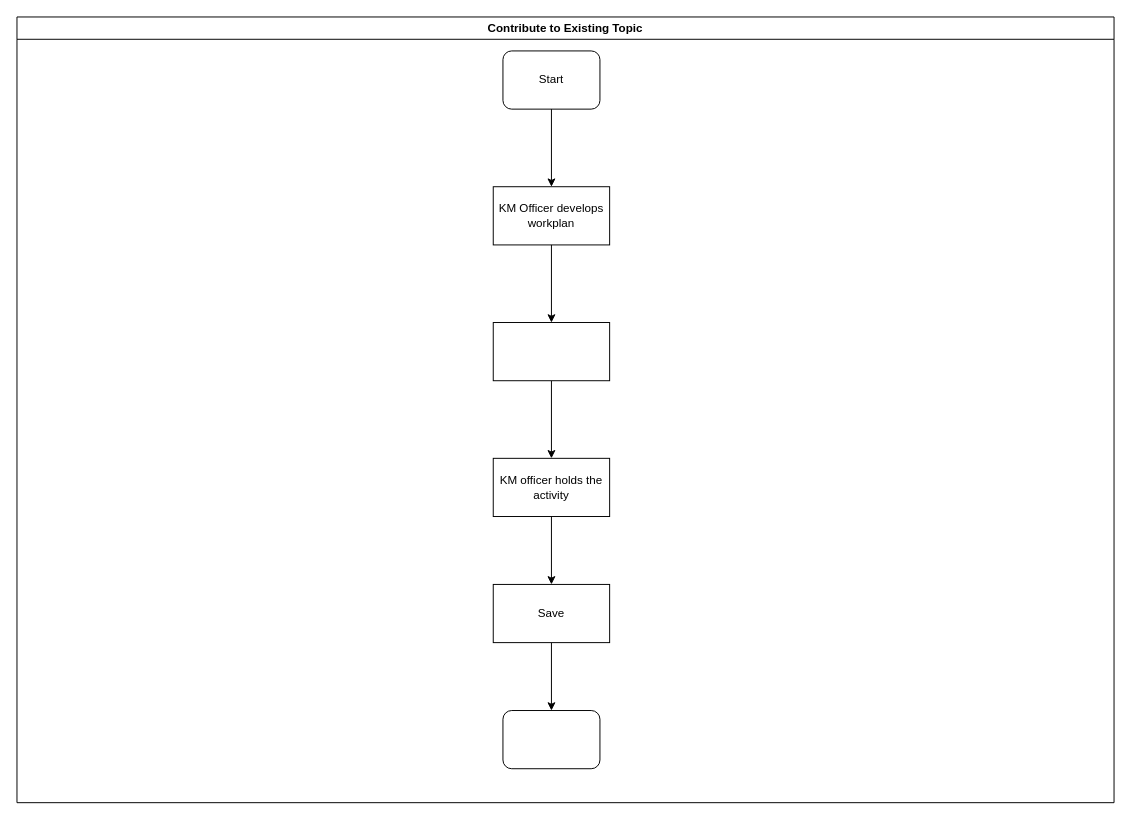
Some shapes in this 1131 by 820 pixel diagram are drawn without their labels. The shapes that lost their labels are listed below. From the top down, each one's centre as x and y in pixels, then its label:
point 551,351: KM Officer plans for the activity
point 551,739: End
